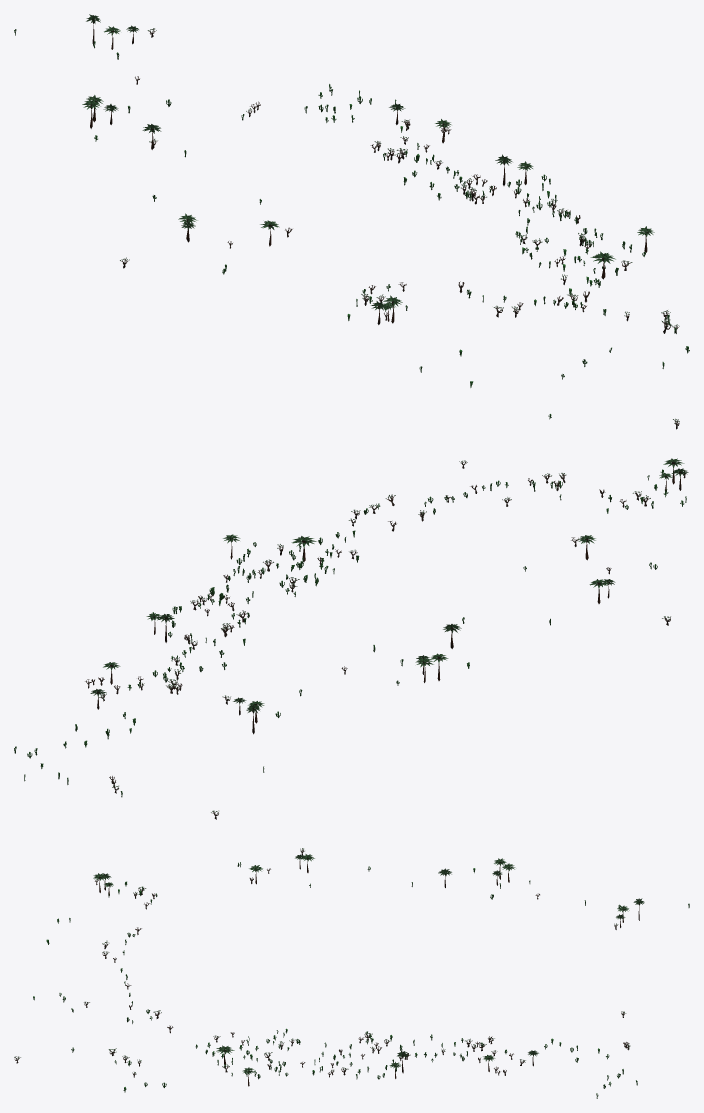
Rendered from e_trees_desert.fbx.
3 renders of one model, top to bottom at view 1: azimuth 30°, elevation 25°; view 2: azimuth 150°, elevation 25°; view 3: azimuth 270°, elevation 25°, orthographic. The views are drawn at different scales.
Visible parts, largest first — view 1: e_trees_desert; view 2: e_trees_desert; view 3: e_trees_desert.
Boxes of the visible parts, left/top/right/bottom form: e_trees_desert: left=14, top=14, right=689, bottom=429; e_trees_desert: left=14, top=458, right=688, bottom=819; e_trees_desert: left=14, top=848, right=689, bottom=1098.
Bounding box in the file's own units: 206 × 59.9 × 329.
